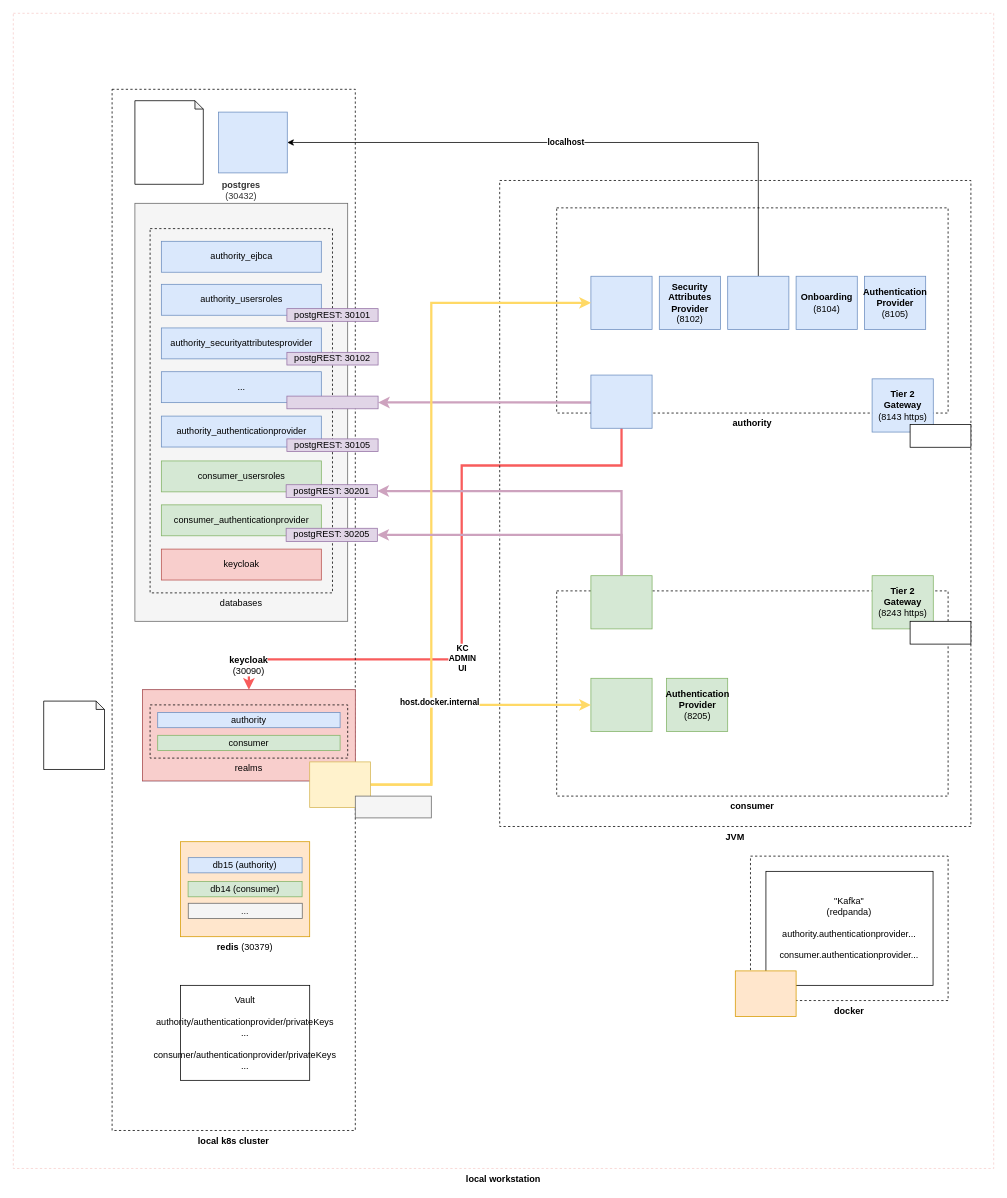
This 1007x1198 diagram has some shape labels left out. Each missing label, with the centre of its shape:
"Actuator (8142 http)" goes at point (940, 435).
"Actuator (8242 http)" goes at point (940, 632).
"debug: 5005 (port forwarding)" goes at point (393, 806).
"EJBCA (30443)" goes at point (252, 142).
"Identity Provider (8103)" goes at point (758, 302).
"Keycloak Admin UI is available from authority tier 1 gateway" goes at point (73, 735).
"Keycloak Authenticator SPI" goes at point (339, 784).
"Multiple authorities can be handled with multiple End Entity / Profile / CA" goes at point (168, 142).
"postgREST: ..." goes at point (332, 402).
"RedPanda Console (8888)" goes at point (765, 993).
"Tier 1 Gateway (8100)" goes at point (621, 401).
"Tier 1 Gateway (8200)" goes at point (621, 602).
"Users Roles (8101)" goes at point (621, 302).
"Users Roles (8201)" goes at point (621, 705).
